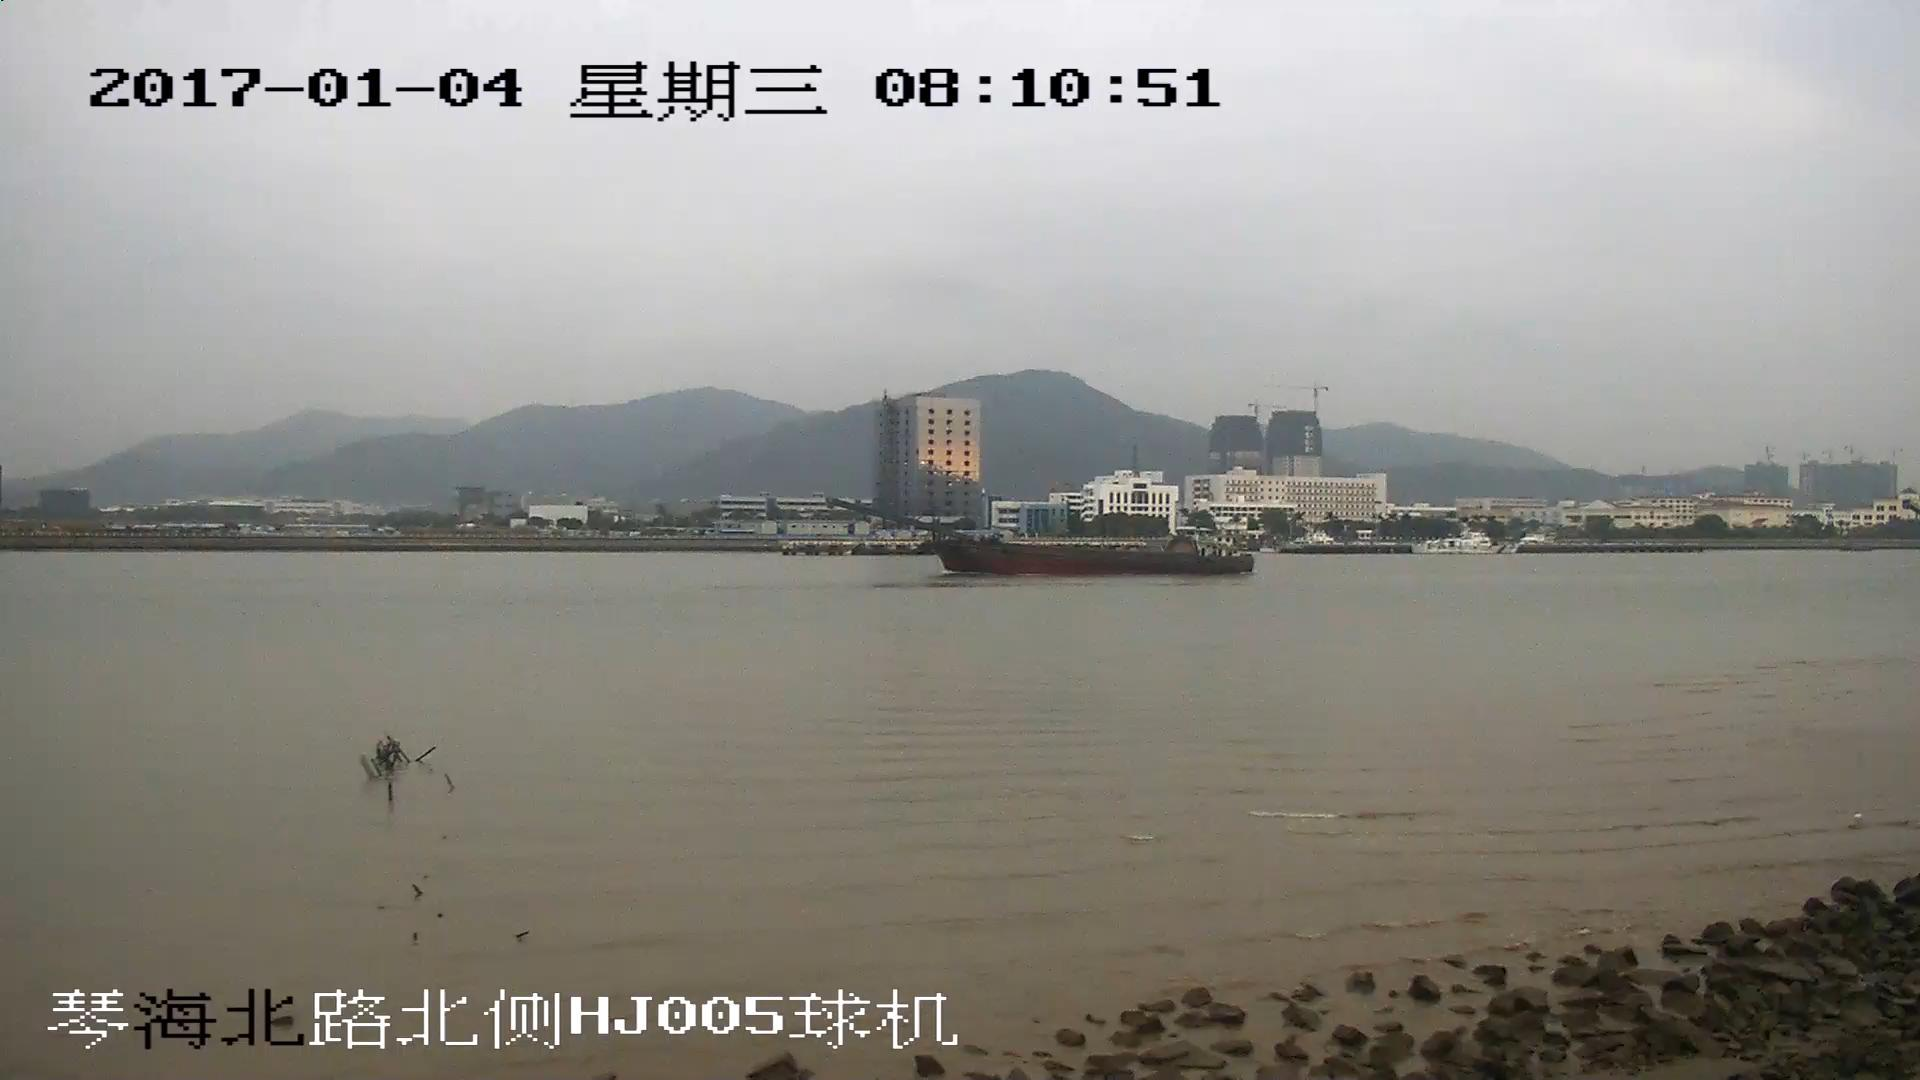Ship: (832, 501, 1257, 576)
